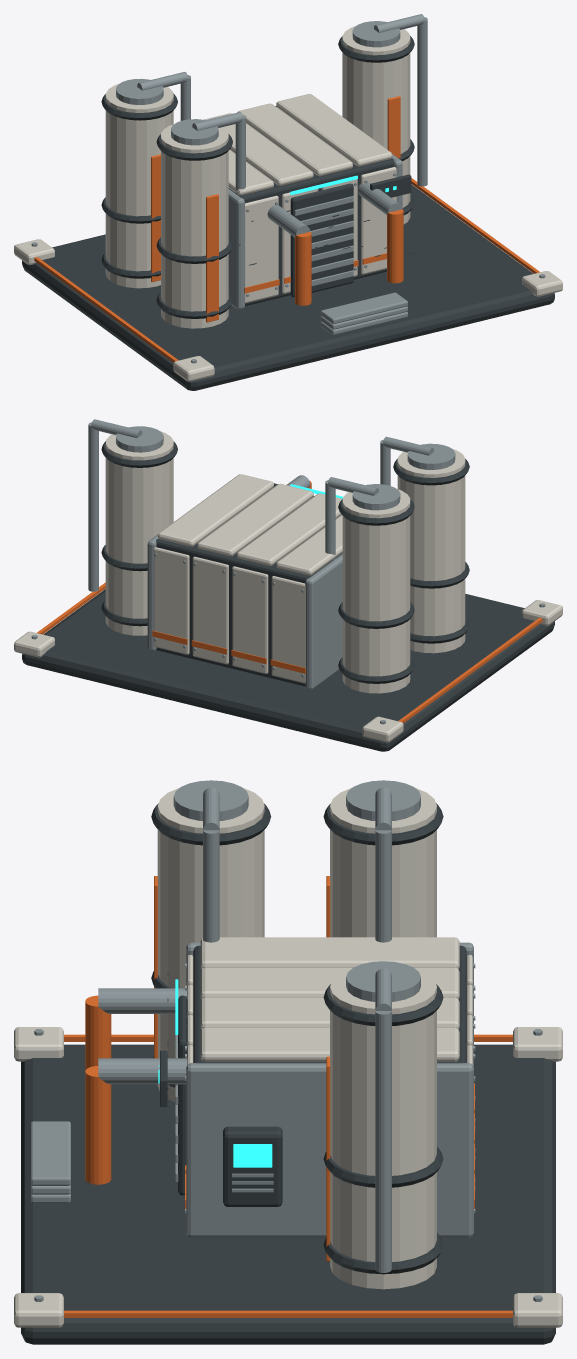
File: SM_FuelProcessor_Body.fbx
3 renders of one model, top to bottom at view 1: azimuth 30°, elevation 25°; view 2: azimuth 150°, elevation 25°; view 3: azimuth 270°, elevation 25°, orthographic. The views are drawn at different scales.
Parts seen in each view (by area): view 1: SM_FuelProcessor_Body; view 2: SM_FuelProcessor_Body; view 3: SM_FuelProcessor_Body.
Boxes of the visible parts, x1,y1,x2,y2 form: SM_FuelProcessor_Body: [14, 14, 562, 390]; SM_FuelProcessor_Body: [14, 419, 562, 751]; SM_FuelProcessor_Body: [14, 780, 562, 1344].
Bounding box in the file's own units: 572 × 462 × 307.
